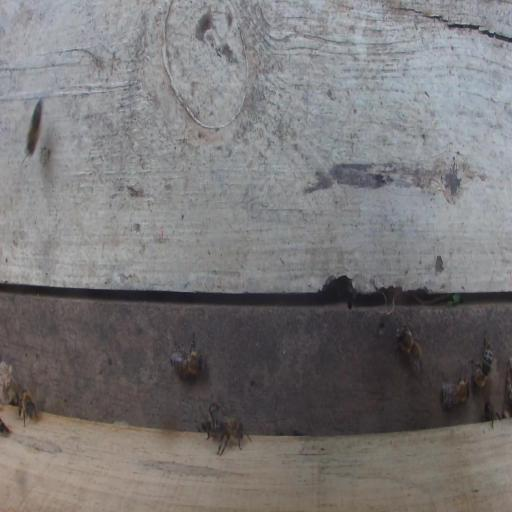bee: (170, 332, 205, 380), (394, 325, 424, 376), (216, 415, 251, 456), (469, 333, 492, 389), (202, 403, 225, 453), (26, 97, 44, 159), (440, 376, 470, 410), (17, 387, 39, 427), (483, 400, 502, 427)
